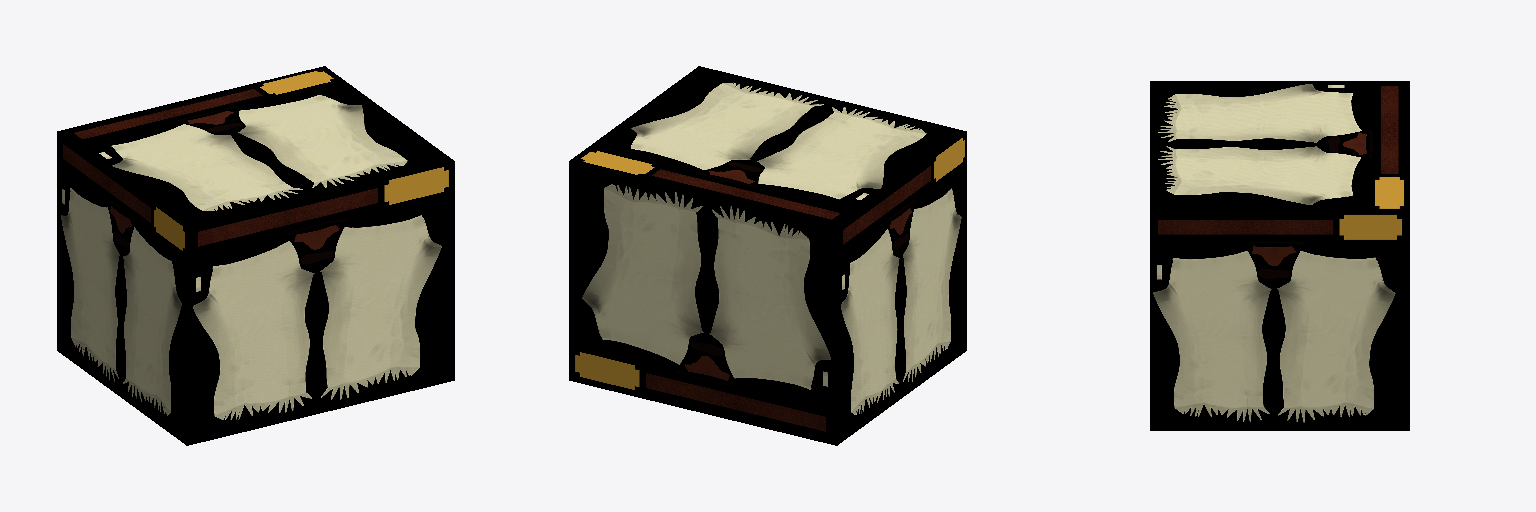
3 views of the same model, side by side, from view 1: azimuth 30°, elevation 25°; view 2: azimuth 150°, elevation 25°; view 3: azimuth 270°, elevation 25° (orthographic).
Parts seen in each view (by area): view 1: pCube1; view 2: pCube1; view 3: pCube1.
Boxes of the visible parts, x1=… form: pCube1: x1=57, y1=66, x2=454, y2=445; pCube1: x1=569, y1=66, x2=966, y2=445; pCube1: x1=1150, y1=81, x2=1409, y2=430.
Size of the model in its own units: 6.22 by 4.87 by 5.23.
Materials: 1 (1 with a texture image).